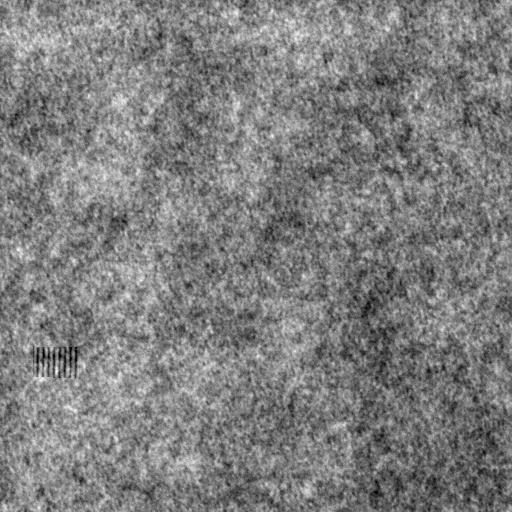DefectTypeB: (27, 341, 80, 383)
